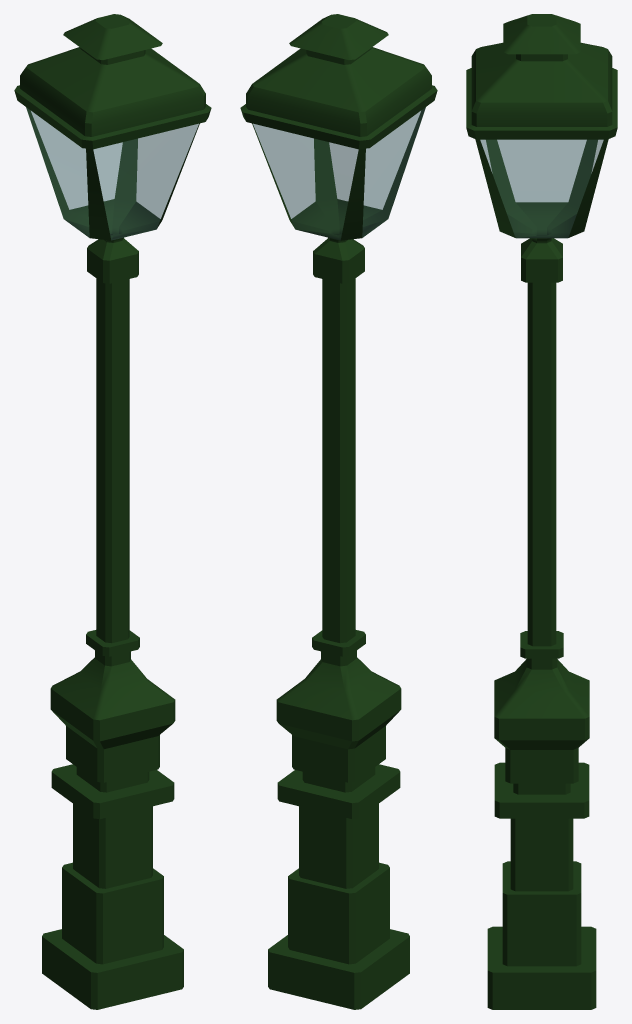
Rendered from Lampadert.fbx.
The picture shows the model from 3 angles, left to right: view 1: azimuth 30°, elevation 25°; view 2: azimuth 150°, elevation 25°; view 3: azimuth 270°, elevation 25°; orthographic projection.
Visible parts, largest first — view 1: pCube1; view 2: pCube1; view 3: pCube1.
Boxes of the visible parts, x1,y1,x2,y2 form: pCube1: (14,14,211,1009); pCube1: (240,14,437,1009); pCube1: (466,14,617,1009).
Bounding box in the file's own units: 7.72 × 54.35 × 7.72.
